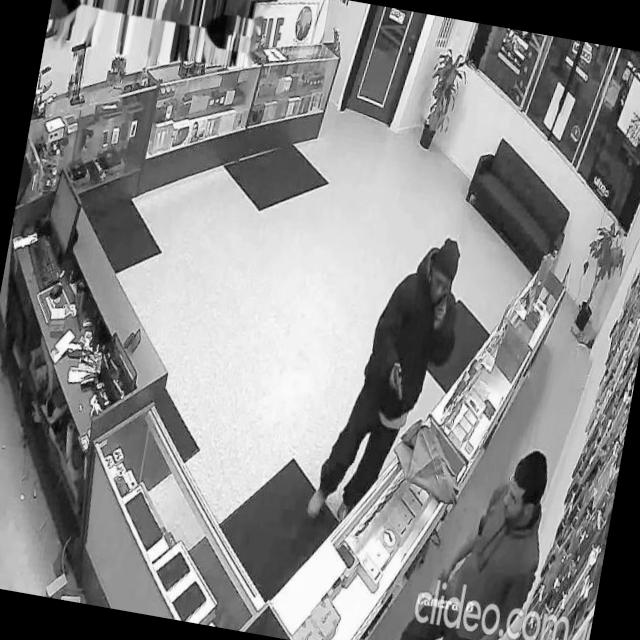gun: (386, 358, 409, 403)
person: (395, 431, 559, 640)
person with a gun: (306, 219, 475, 542)
